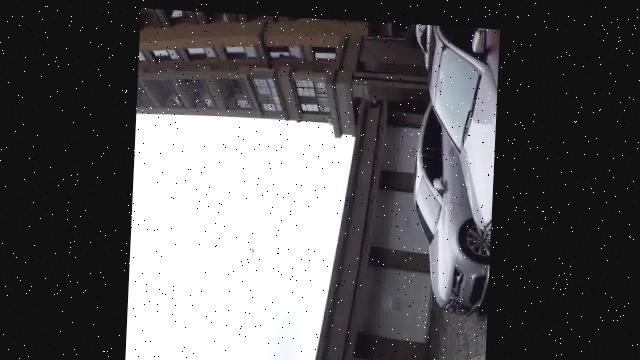drone: (240, 235, 269, 259)
